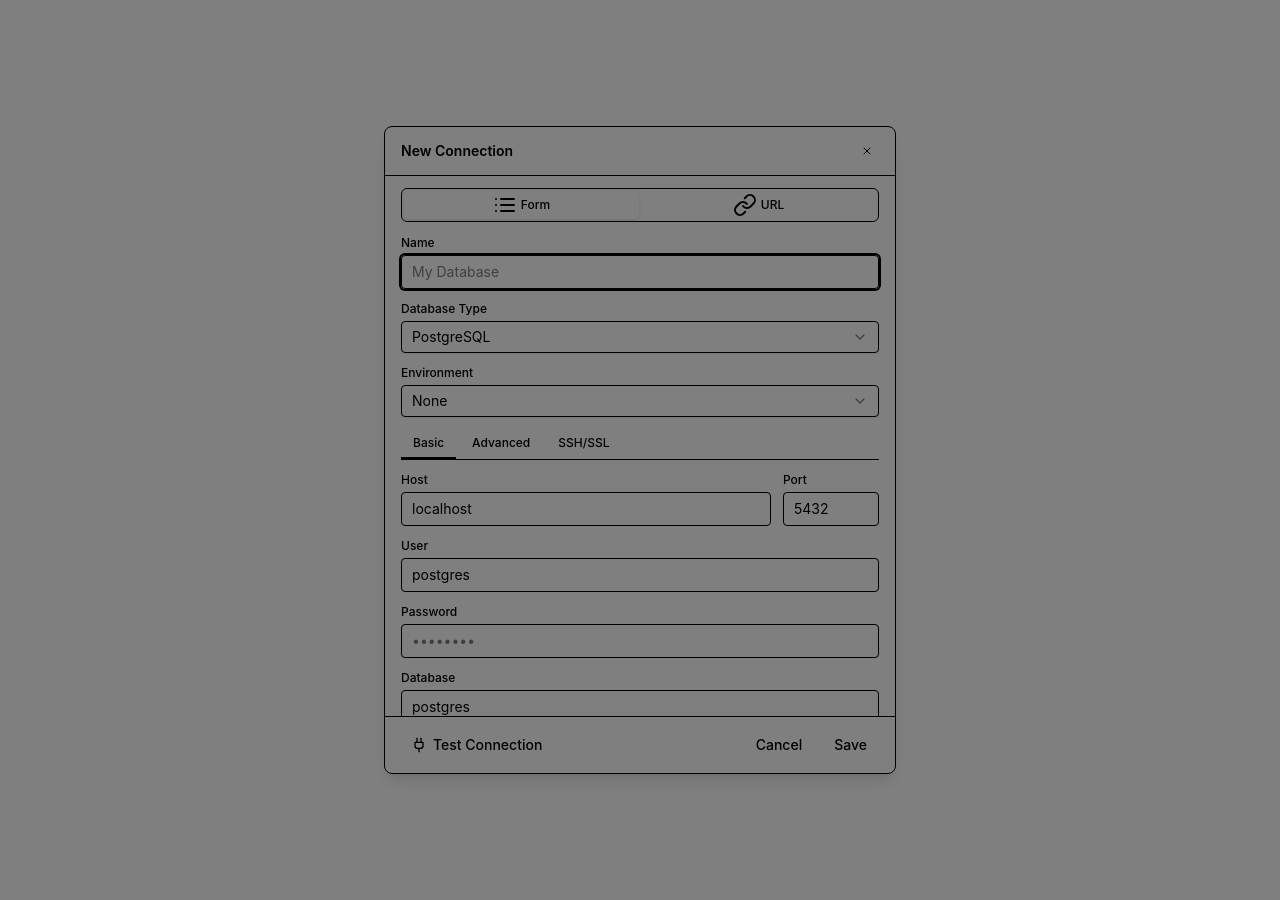
Test: ConnectionDialog critical accessibility smoke › keeps connection passwords out of the save-failure alert
Step 1. Type "My DB" into the field labelled "Name" → coordinates (640, 272), box [401, 255, 879, 289]
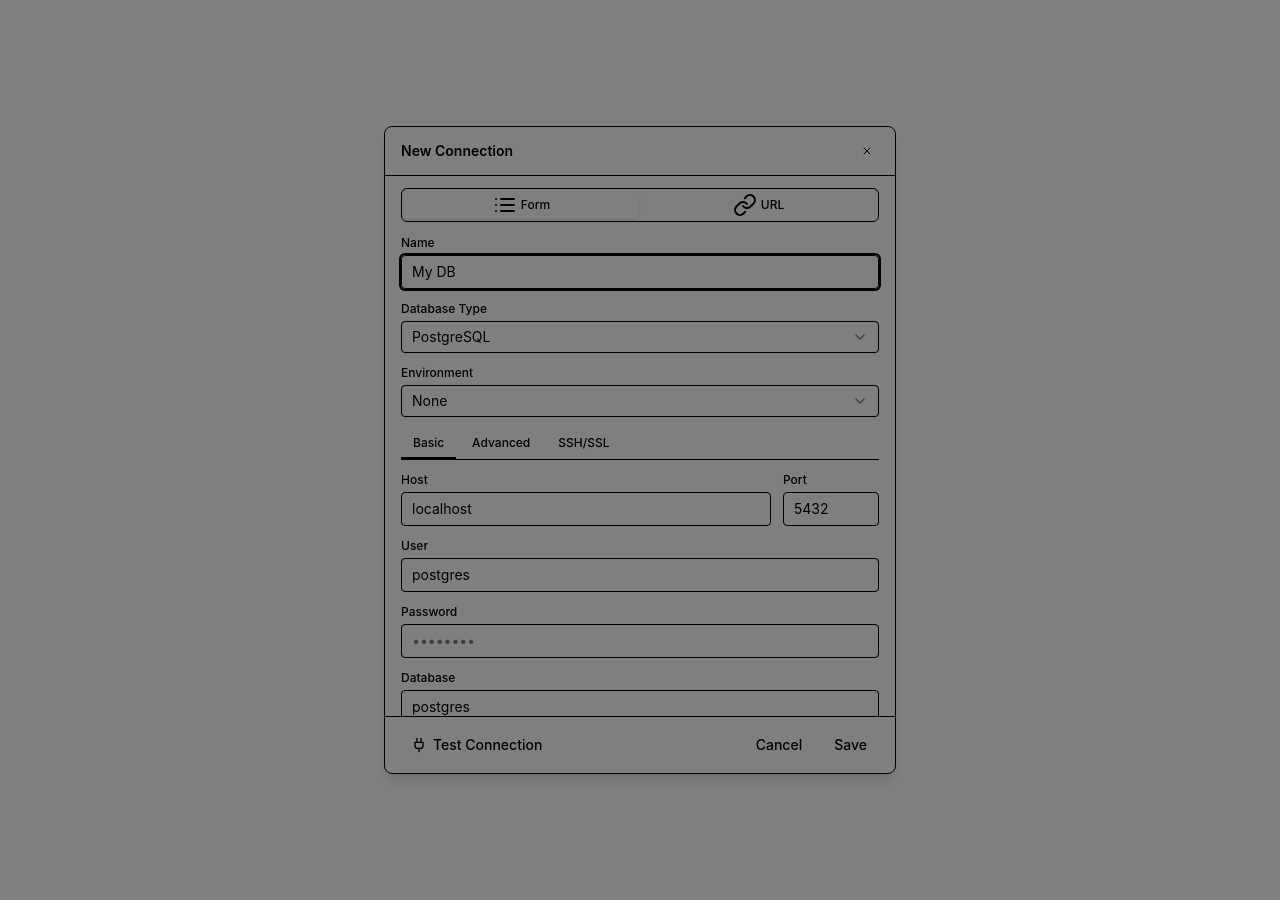
Step 2. Type "pass@789ZZ" into the password field labelled "Password" → coordinates (640, 641), box [401, 624, 879, 658]
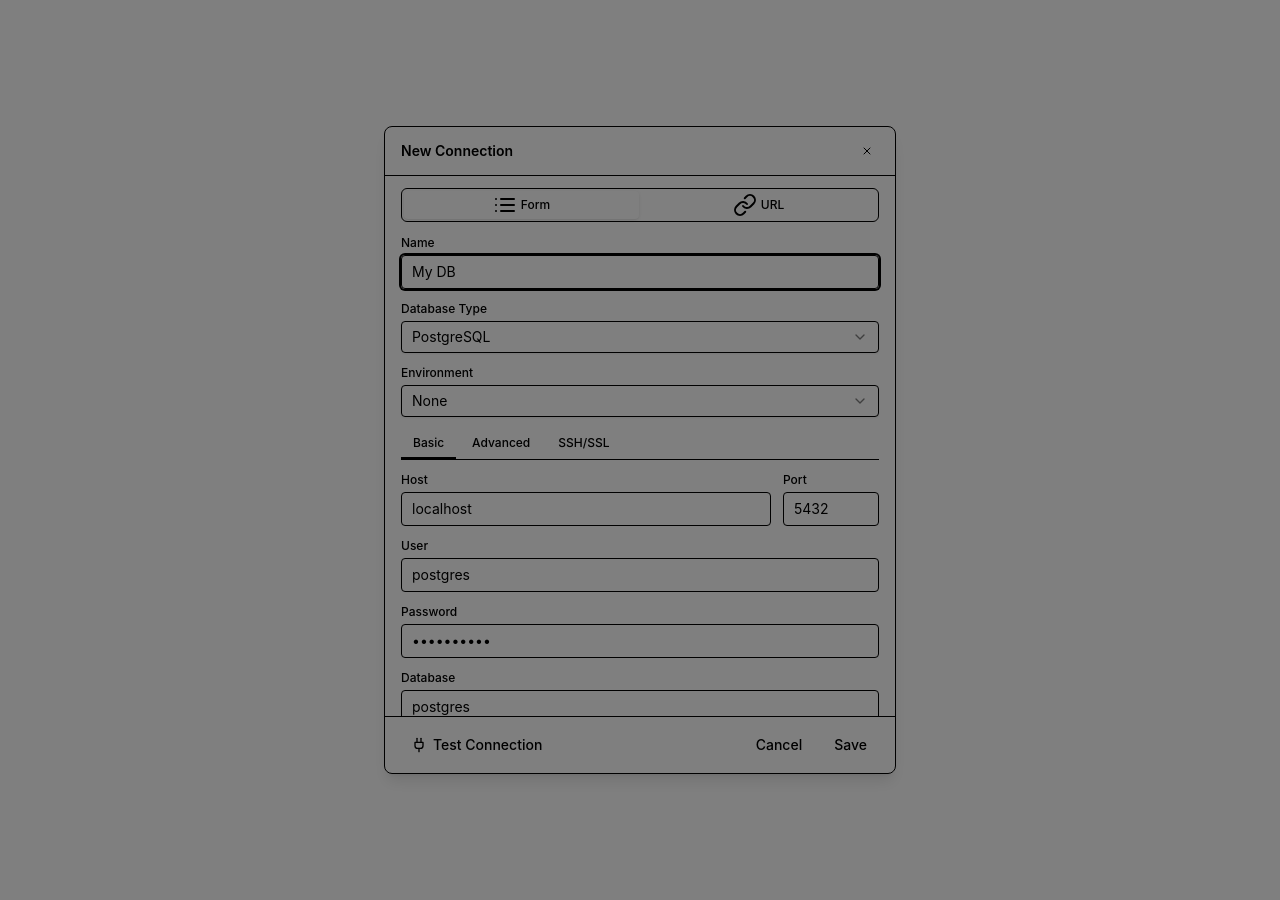
Step 3. Click the button "Save" → coordinates (851, 745), box [822, 729, 879, 761]
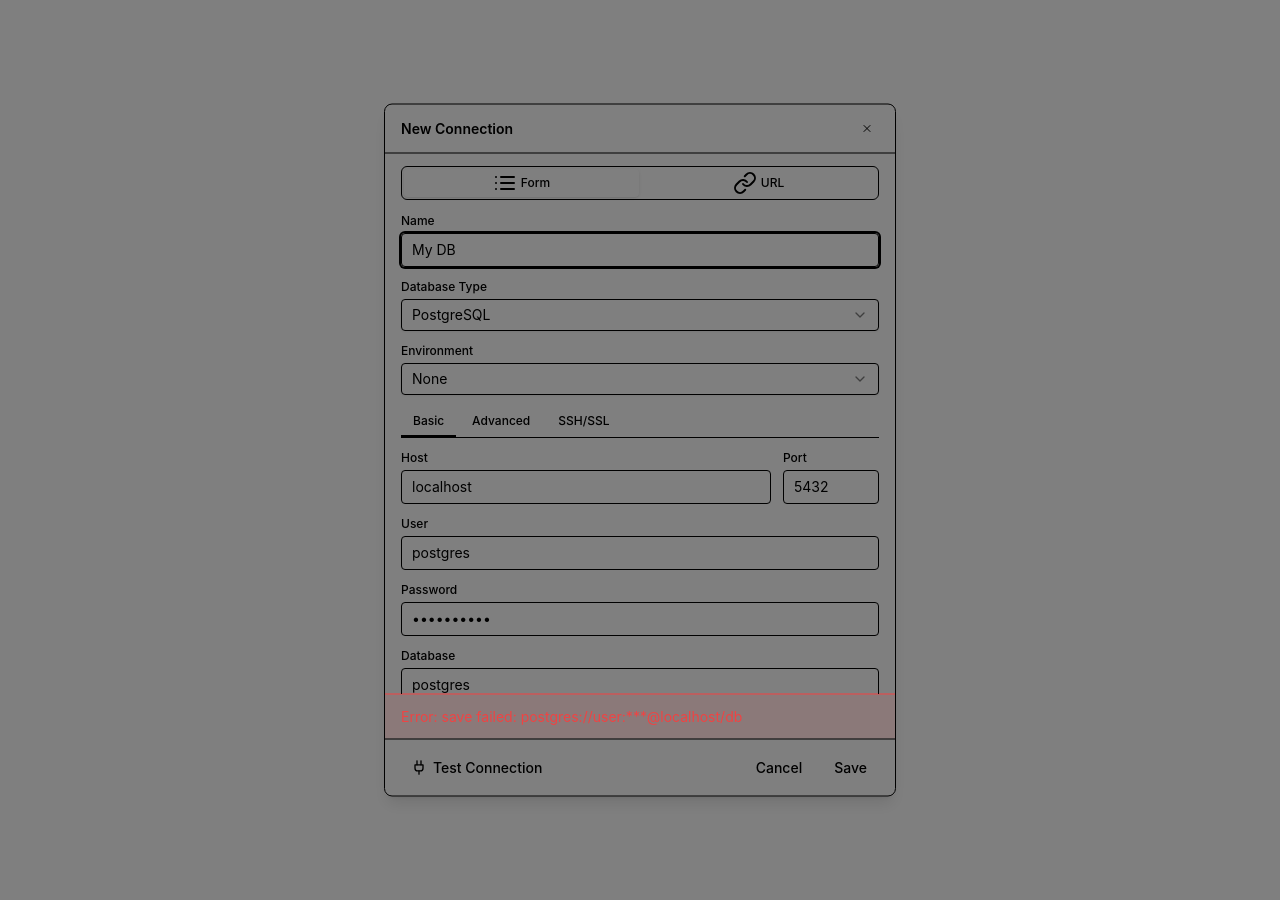
Check: the message shows "save failed", box [401, 708, 742, 724]
Check: the message shows "***", box [401, 708, 742, 724]
